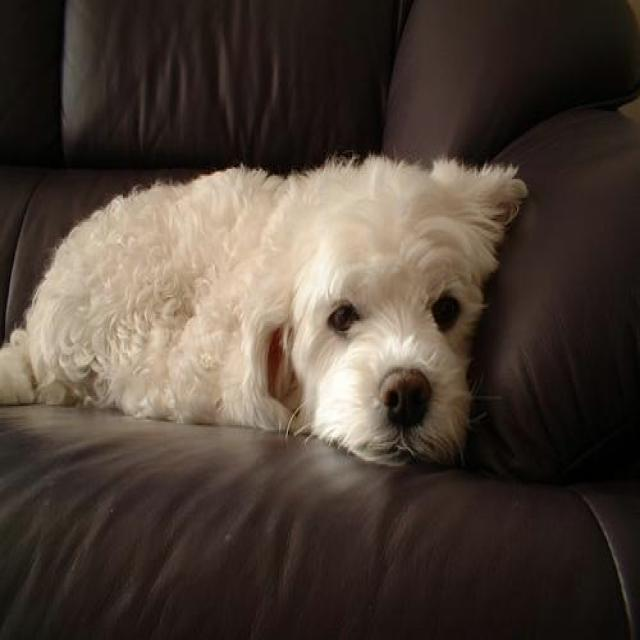shih_tzu: (0, 154, 525, 462)
